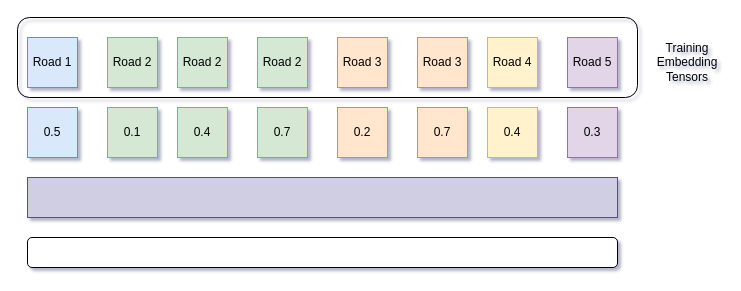
Some shapes in this 741 by 291 pixel diagram are drawn without their labels. The shapes that lost their labels are listed below. From the top down, each one's box as (x1, y1, x2, y2) in pixels, then its label:
(26, 176, 618, 218): Static Attributes
(26, 236, 618, 268): Timestamp-related variables ?
